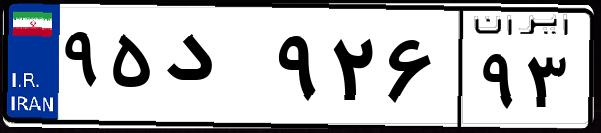2: (330, 28, 385, 110)
3: (525, 38, 570, 115)
5: (110, 28, 158, 98)
6: (385, 28, 445, 110)
9: (270, 28, 330, 110), (57, 26, 110, 100), (475, 38, 525, 113)
د: (158, 20, 270, 120)
